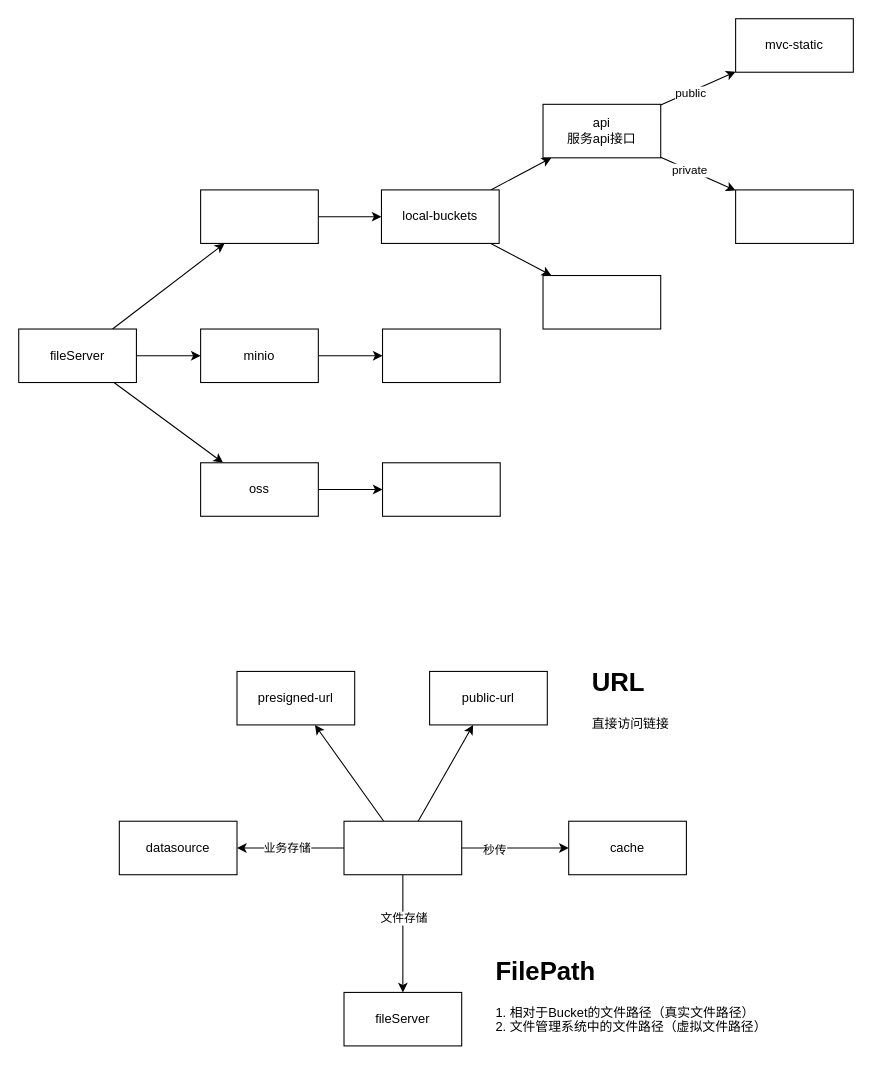
The diagram is 872 pixels wide and 1068 high, and some of its shapes have lost their labels. Each missing label, with the centre of its shape:
filePath: the point at 402,847
local: the point at 259,216
minio-buckets: the point at 440,355
mvc-controller: the point at 794,216
oss-buckets: the point at 440,489
path 本机真实目录: the point at 601,301
